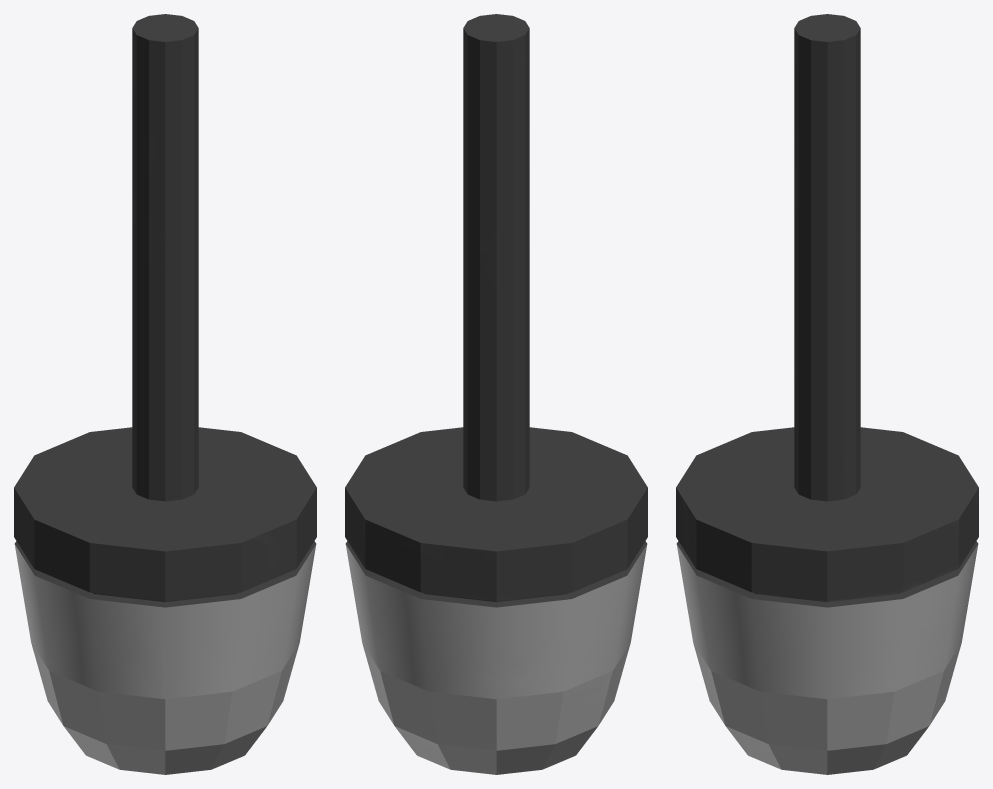
Rendered from Alarm Final.FBX.
3 views of the same model, side by side, from view 1: azimuth 30°, elevation 25°; view 2: azimuth 150°, elevation 25°; view 3: azimuth 270°, elevation 25° (orthographic).
Parts seen in each view (by area): view 1: Cylinder001; view 2: Cylinder001; view 3: Cylinder001.
Boxes of the visible parts, bbox=[...] form: Cylinder001: bbox=[14, 14, 316, 774]; Cylinder001: bbox=[345, 14, 647, 774]; Cylinder001: bbox=[676, 14, 978, 774].
Bounding box in the file's own units: 80.91 × 212 × 80.91.
Materials: 1 (1 with a texture image).
